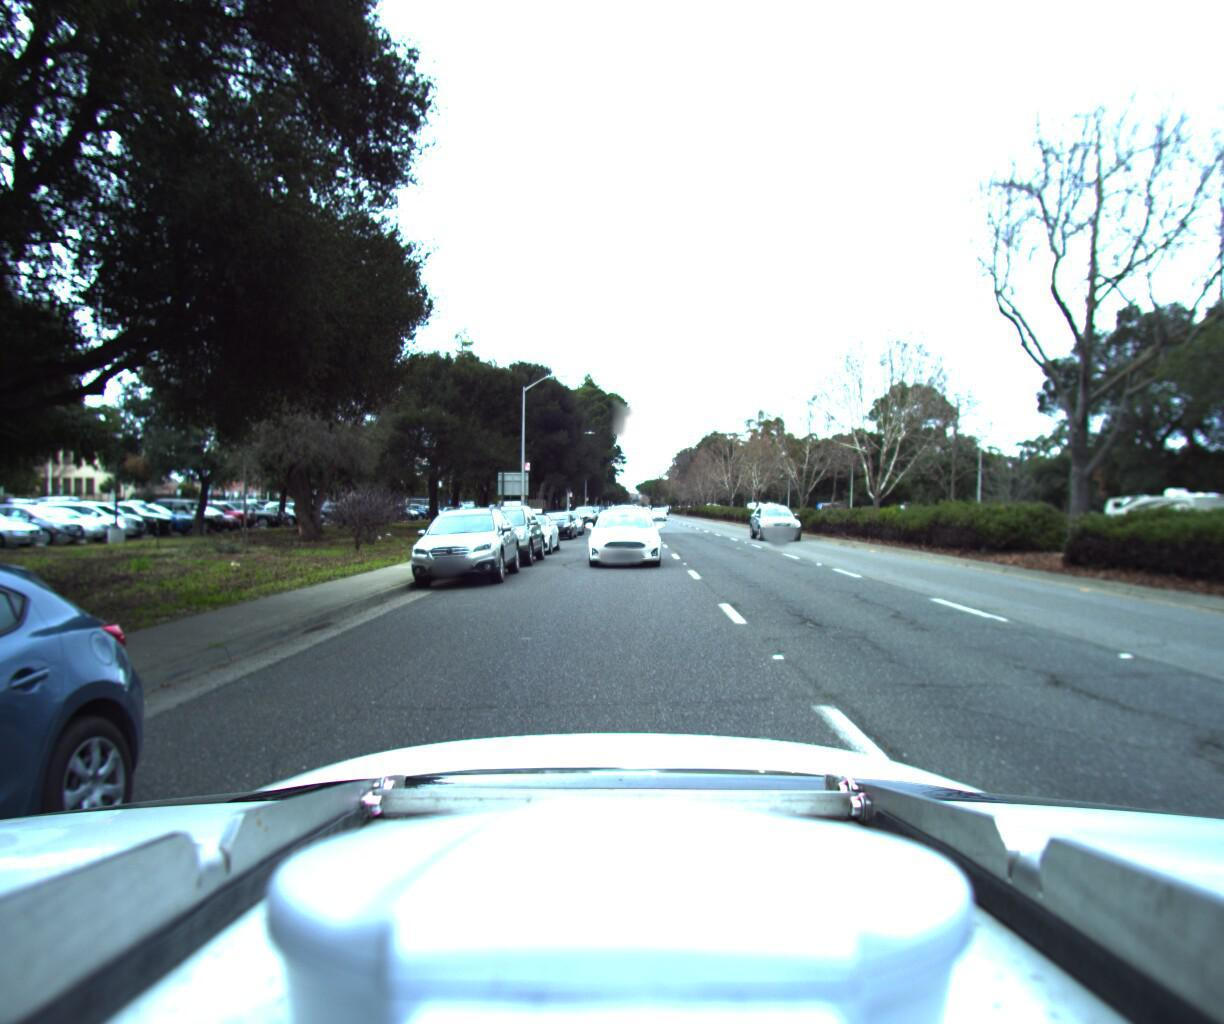car: (0, 540, 210, 1024), (401, 496, 525, 592), (457, 497, 547, 566), (588, 502, 663, 566), (493, 506, 561, 552), (750, 497, 808, 537), (533, 502, 577, 534), (548, 502, 583, 530), (571, 496, 596, 521), (647, 502, 665, 517)
other_vehicle: (1094, 477, 1224, 556)
